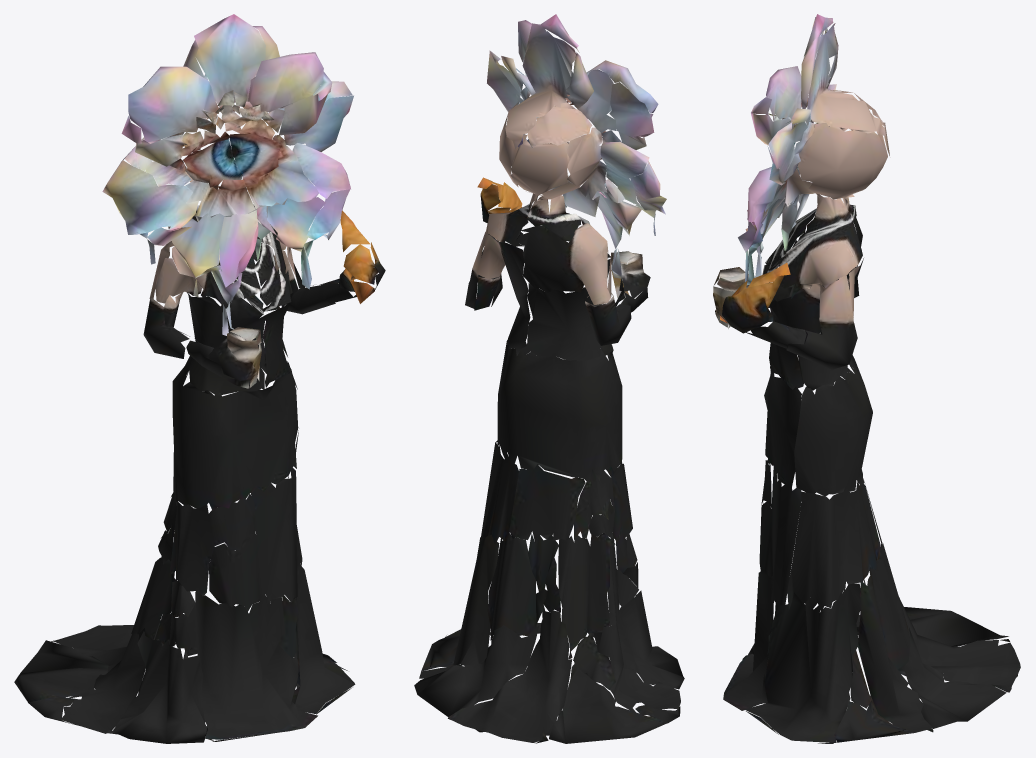
File: cast_gown.glb
The picture shows the model from 3 angles, left to right: view 1: azimuth 30°, elevation 25°; view 2: azimuth 150°, elevation 25°; view 3: azimuth 270°, elevation 25°; orthographic projection. The views are drawn at different scales.
Parts seen in each view (by area): view 1: tripo_node_620514dc-a435-4403-84fe-d3314a613aa5; view 2: tripo_node_620514dc-a435-4403-84fe-d3314a613aa5; view 3: tripo_node_620514dc-a435-4403-84fe-d3314a613aa5.
Boxes of the visible parts, x1,y1,x2,y2 form: tripo_node_620514dc-a435-4403-84fe-d3314a613aa5: (14, 14, 385, 743); tripo_node_620514dc-a435-4403-84fe-d3314a613aa5: (414, 14, 684, 743); tripo_node_620514dc-a435-4403-84fe-d3314a613aa5: (713, 14, 1020, 743).
Size of the model in its own units: 0.4215 by 1 by 0.4131.
1 material, 1 textured.
